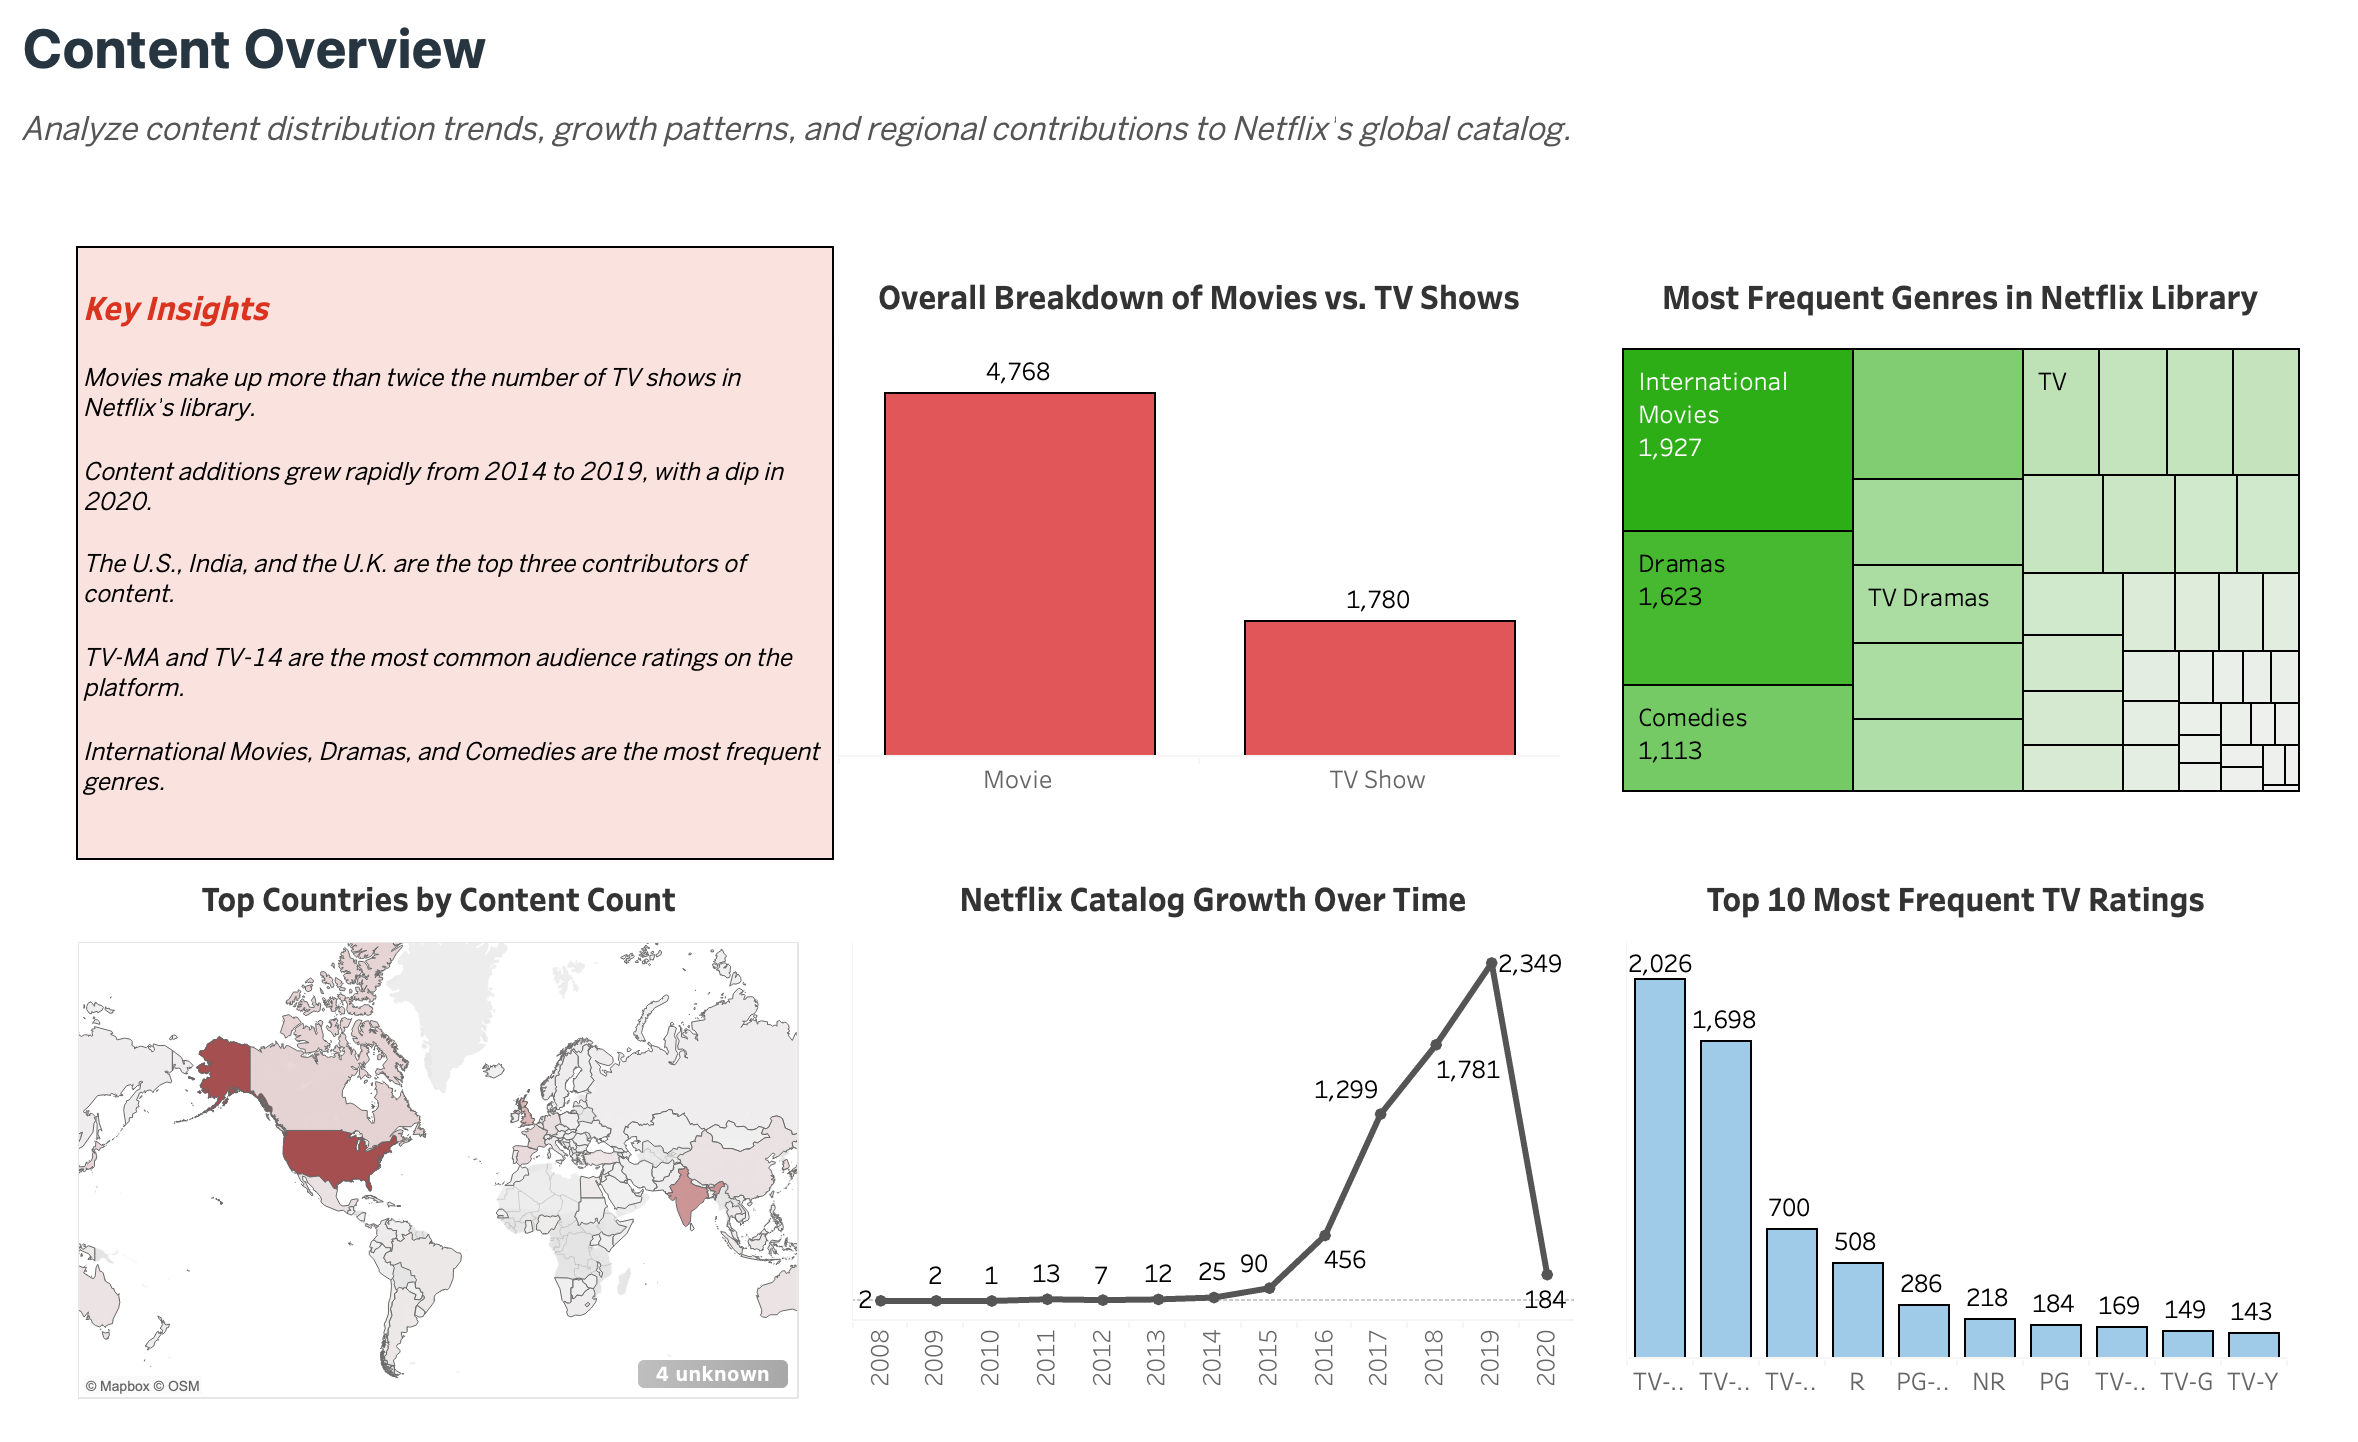

What the dashboard file says about the page in this screenshot:
{"tool":"tableau","page":{"name":"Dashboard 1","canvas":[1000,1000],"units":"permille","ordinal":0},"visuals":[{"type":"text","box":[23.8,11.8,236.9,85.5]},{"type":"text","box":[23.1,88.4,782.7,41.2]},{"type":"text","box":[46.9,184.5,311.9,407]},{"type":"worksheet","title":"Overall Breakdown of Movies vs. TV Shows","mark":"Automatic","rows":["show_id (netflix!titles!countries)"],"cols":["type"],"box":[359.7,198.2,296.3,350.6]},{"type":"worksheet","title":"Most Frequent Genres in Netflix Library","mark":"Automatic","box":[678.2,198.2,296.3,350.6]},{"type":"worksheet","title":"Top Countries by Content Count","mark":"Automatic","box":[48.6,594.5,296.3,350.6]},{"type":"worksheet","title":"Netflix Catalog Growth Over Time","mark":"Automatic","rows":["show_id"],"cols":["date_added"],"box":[365.4,594.5,296.3,350.6]},{"type":"worksheet","title":"Top 10 Most Frequent TV Ratings","mark":"Automatic","rows":["show_id"],"cols":["rating"],"box":[683.1,594.5,296.3,350.6]}]}

Visuals, with their boxes on the dashboard's canvas, which has no fixed pixel size, in thousandths of its width and height (x1, y1, x2, y2). These are canvas units, not pixel positions in the 2358x1442 screenshot, which may show the page scaled, cropped or inside an application window:
text: (24, 12, 261, 97)
text: (23, 88, 806, 130)
text: (47, 184, 359, 592)
"Overall Breakdown of Movies vs. TV Shows" worksheet: (360, 198, 656, 549)
"Most Frequent Genres in Netflix Library" worksheet: (678, 198, 974, 549)
"Top Countries by Content Count" worksheet: (49, 594, 345, 945)
"Netflix Catalog Growth Over Time" worksheet: (365, 594, 662, 945)
"Top 10 Most Frequent TV Ratings" worksheet: (683, 594, 979, 945)
